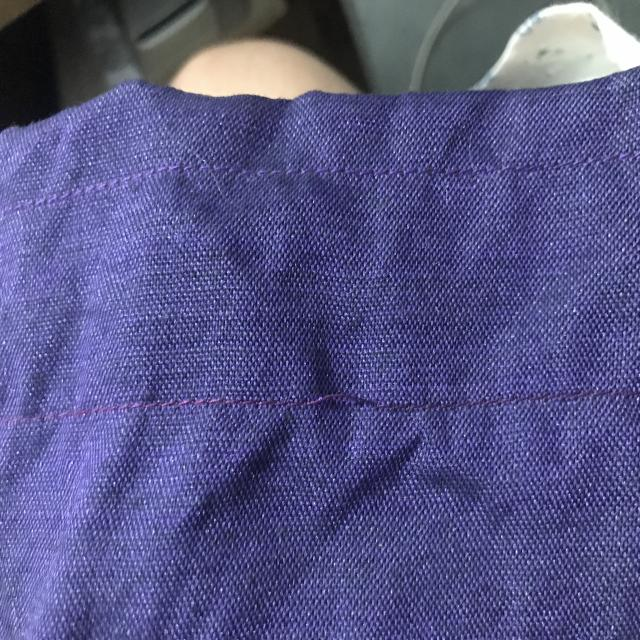good: (114, 389, 234, 422)
skip: (291, 370, 398, 431)
